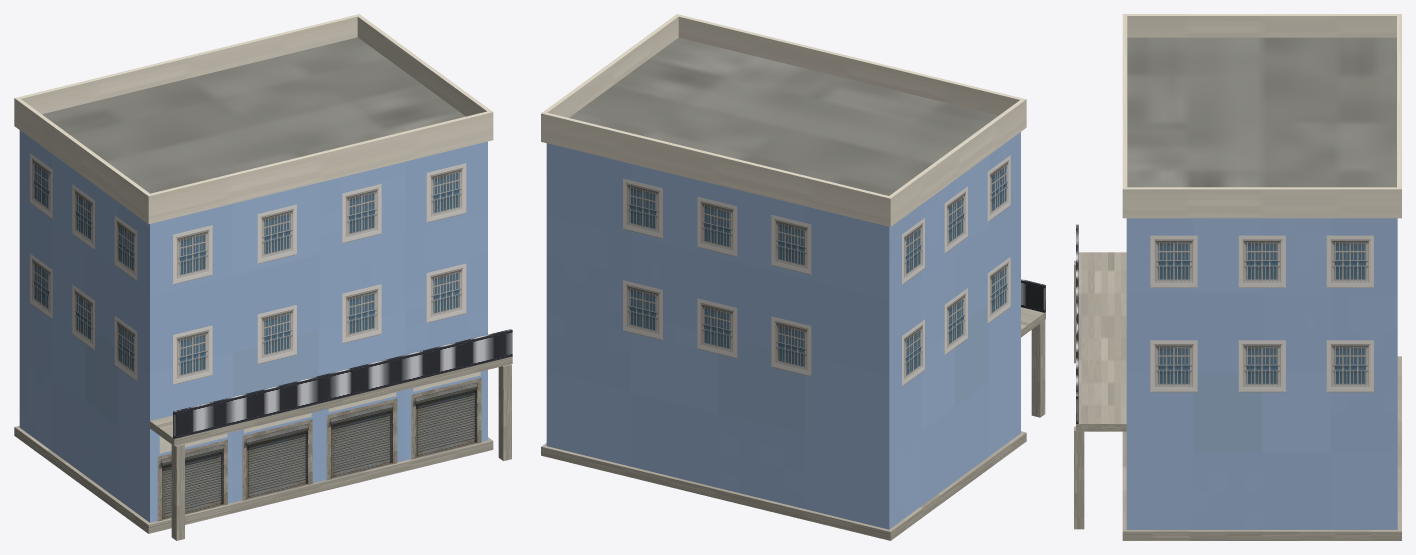
The model's file is shops-sky-far.glb.
The picture shows the model from 3 angles, left to right: view 1: azimuth 30°, elevation 25°; view 2: azimuth 150°, elevation 25°; view 3: azimuth 270°, elevation 25°; orthographic projection. The views are drawn at different scales.
Visible parts, largest first — view 1: shops-sky-far; view 2: shops-sky-far; view 3: shops-sky-far.
Part boxes in pixels (box(x1,y1,x2,y2)): shops-sky-far: box(14, 14, 512, 540); shops-sky-far: box(541, 14, 1045, 540); shops-sky-far: box(1074, 14, 1401, 540).
Bounding box in the file's own units: 12.24 × 11.45 × 9.67.
1 material, 1 textured.
